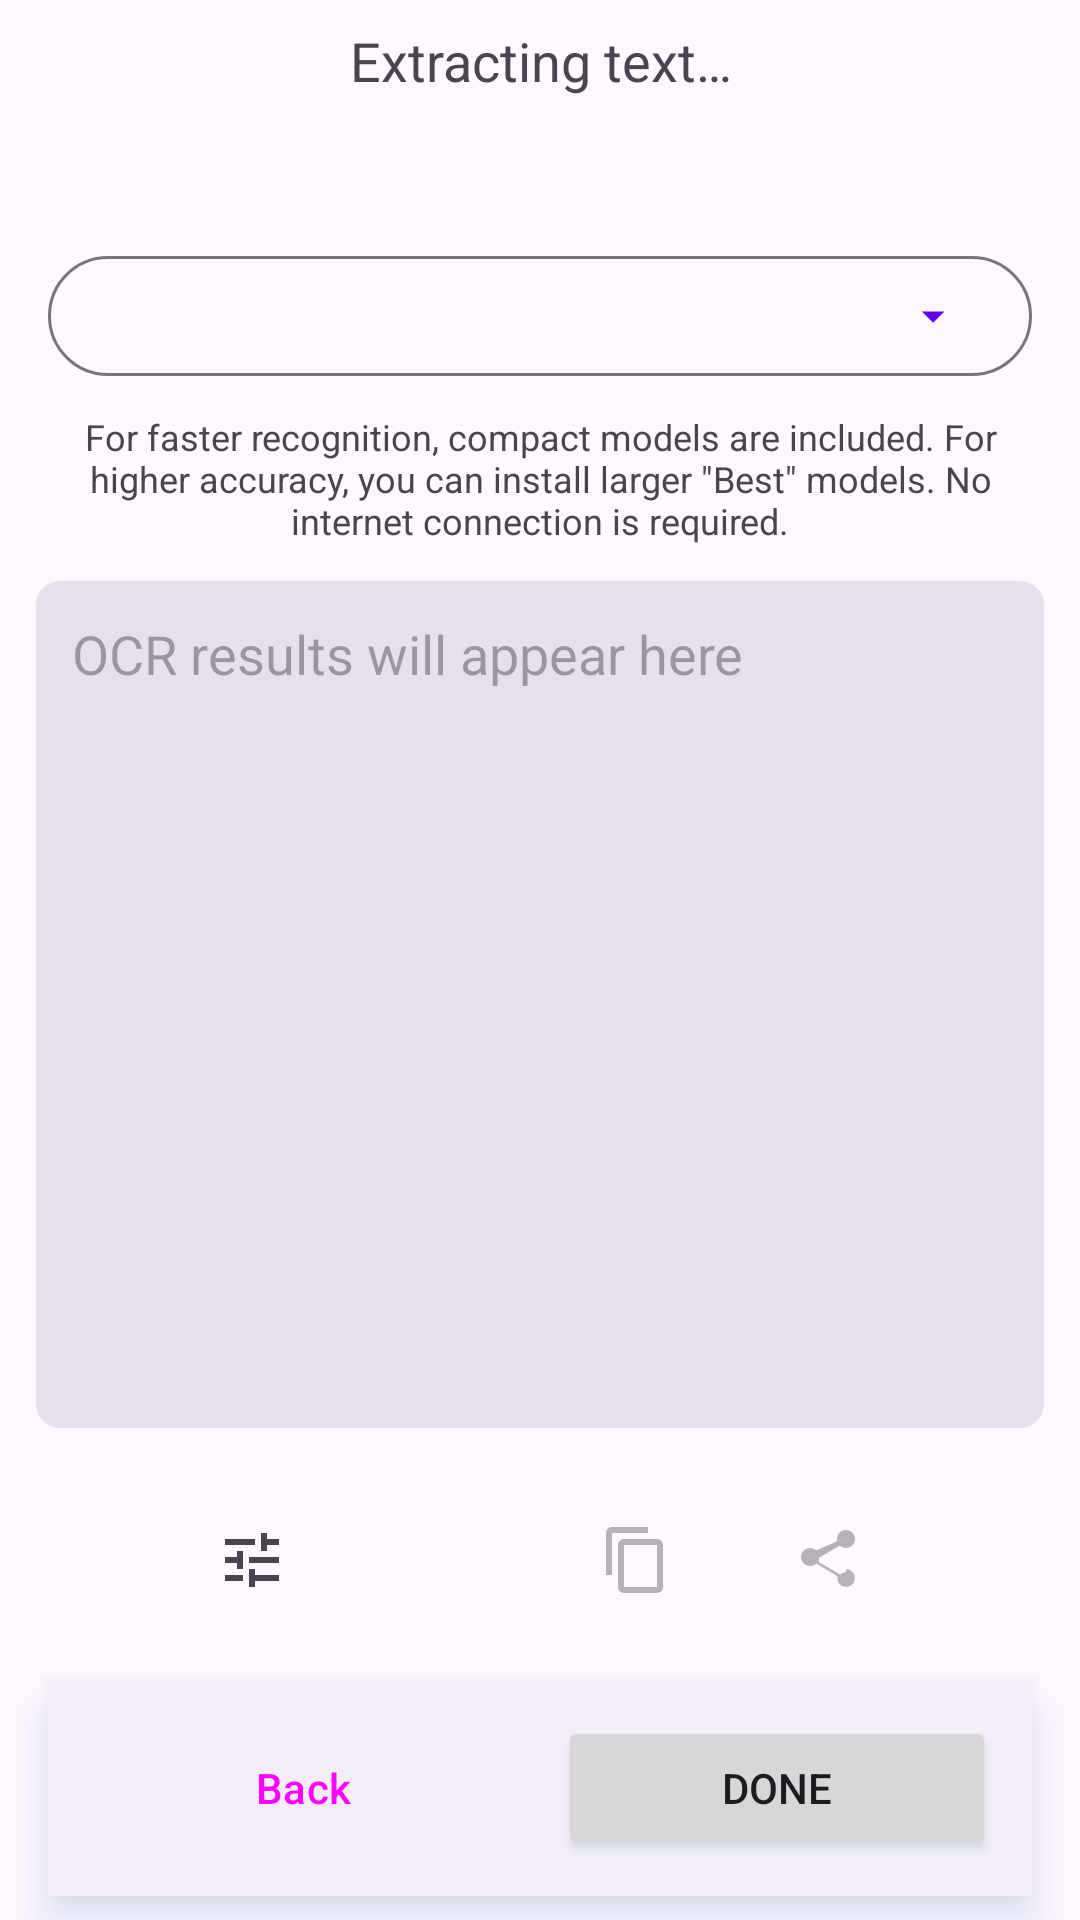

Point at icon controls on the screen. Image size 1080px x 1920px, points as [x,y].
Copy text: [634,1560]
Options: [252,1560]
Share text: [828,1558]
